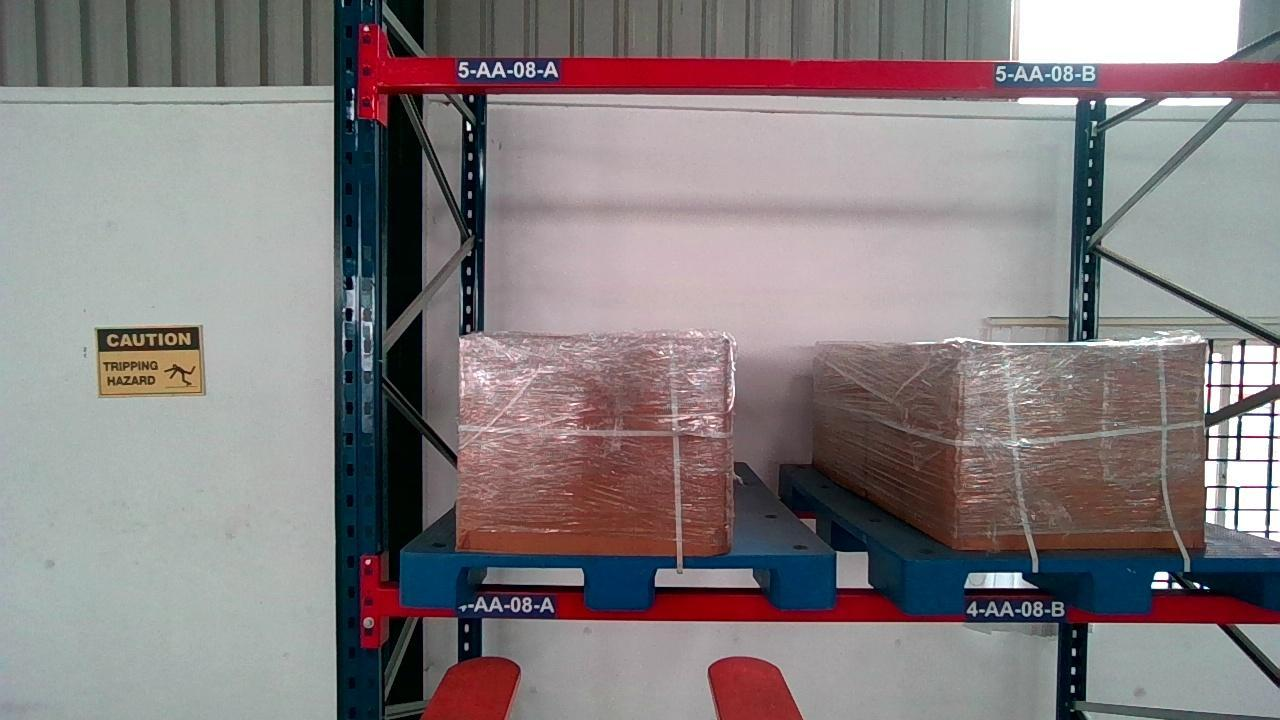h_rack: (379, 57, 1280, 91), (381, 590, 1277, 622)
small_pallet: (402, 554, 837, 607), (910, 558, 1276, 612)
